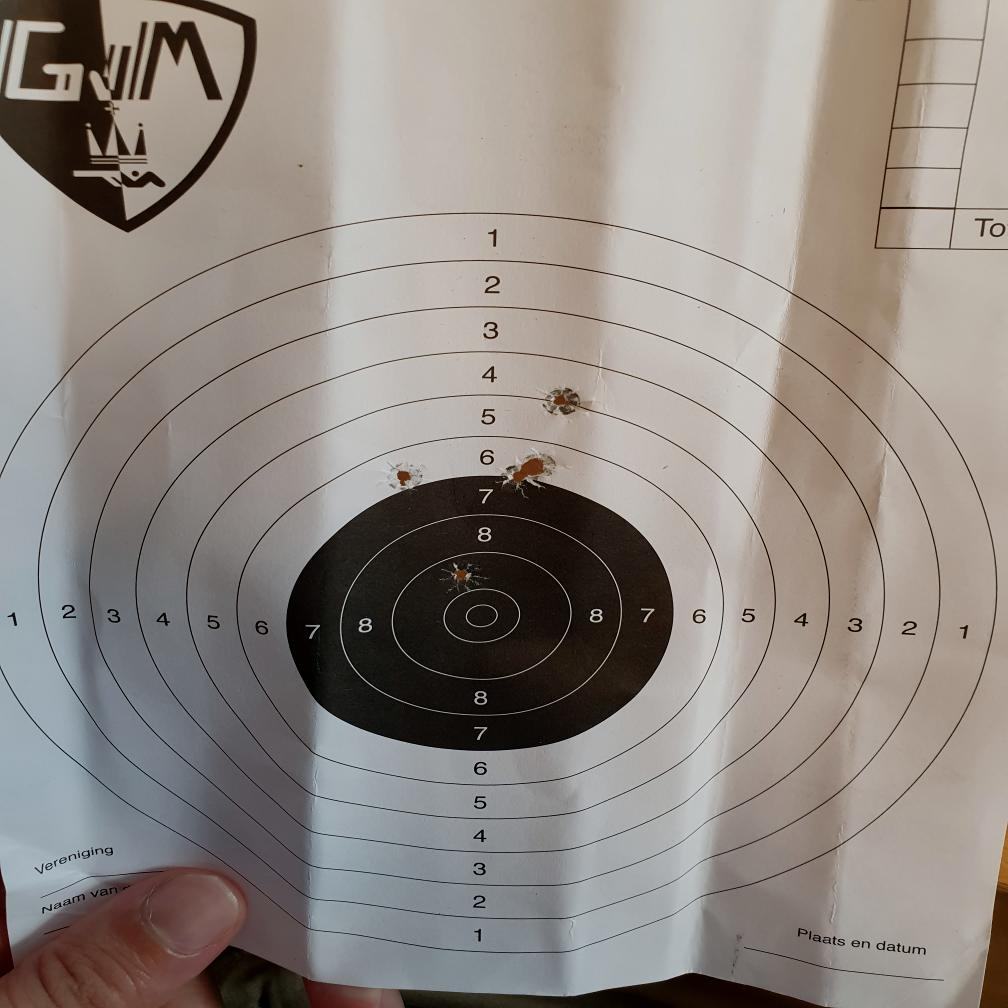5: (536, 386, 593, 418)
6: (384, 461, 432, 492), (521, 448, 562, 483)
7: (494, 462, 529, 495)
9: (441, 561, 491, 595)
Target: (0, 214, 1008, 957)
black_contour: (284, 472, 676, 751)
